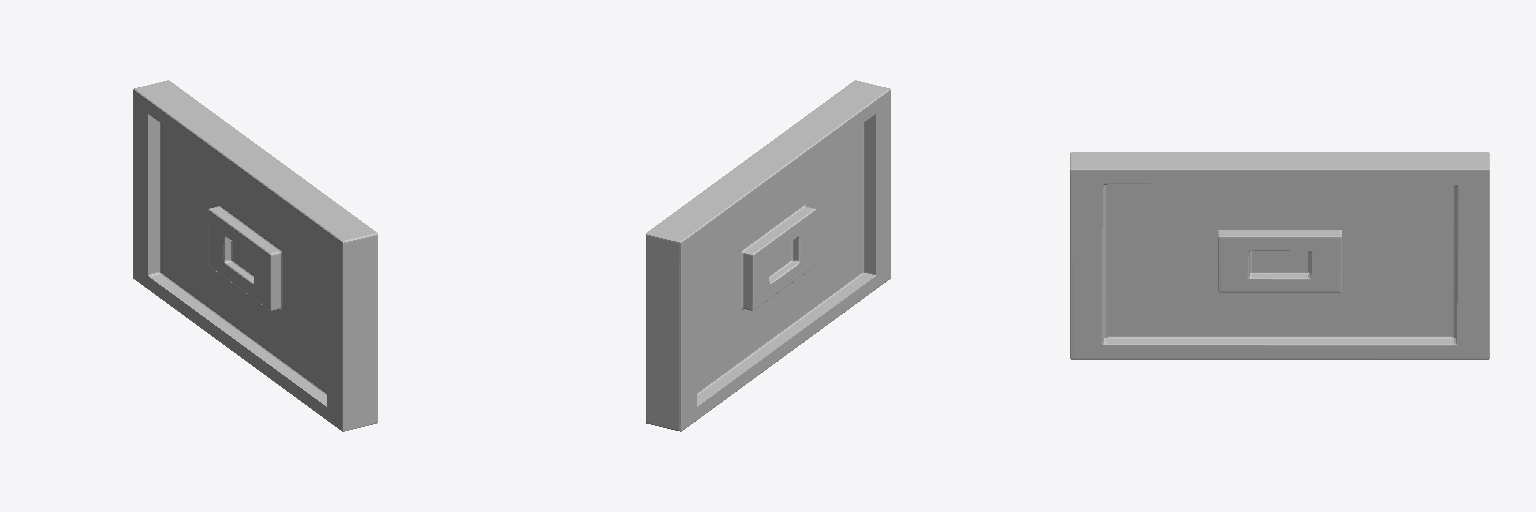
The model's file is rect.obj.
3 views of the same model, side by side, from view 1: azimuth 30°, elevation 25°; view 2: azimuth 150°, elevation 25°; view 3: azimuth 270°, elevation 25° (orthographic).
Parts seen in each view (by area): view 1: Cube; view 2: Cube; view 3: Cube.
Part boxes in pixels (x1,y1,x2,y2): Cube: (133,80,377,431); Cube: (646,80,890,431); Cube: (1070,152,1489,359).
Size of the model in its own units: 0.4045 by 2 by 4.